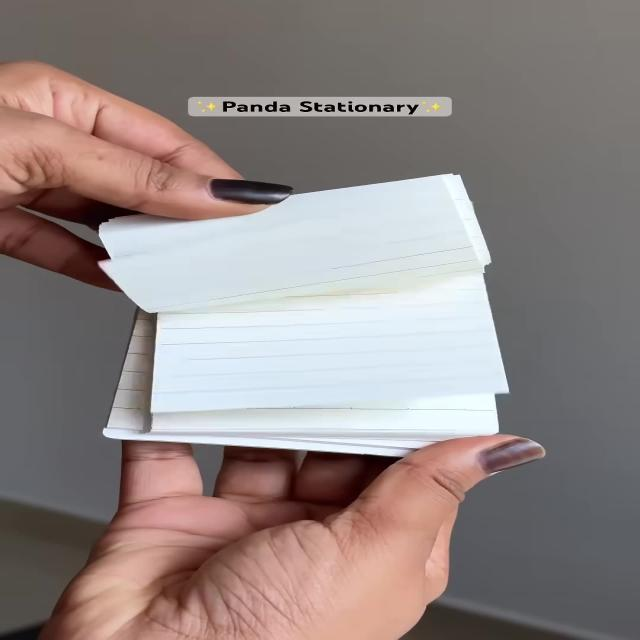scribbiling pag: (74, 166, 554, 482)
